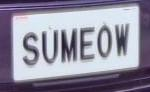0: (96, 21, 114, 65)
E: (78, 24, 96, 67)
M: (59, 25, 80, 70)
S: (20, 27, 42, 72)
U: (41, 28, 60, 70)
W: (114, 19, 132, 64)
